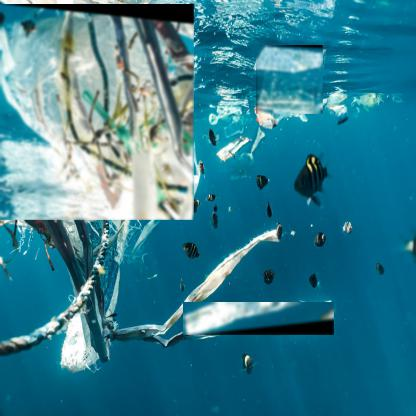waste: (0, 4, 195, 221), (183, 302, 335, 336), (256, 45, 324, 115)
